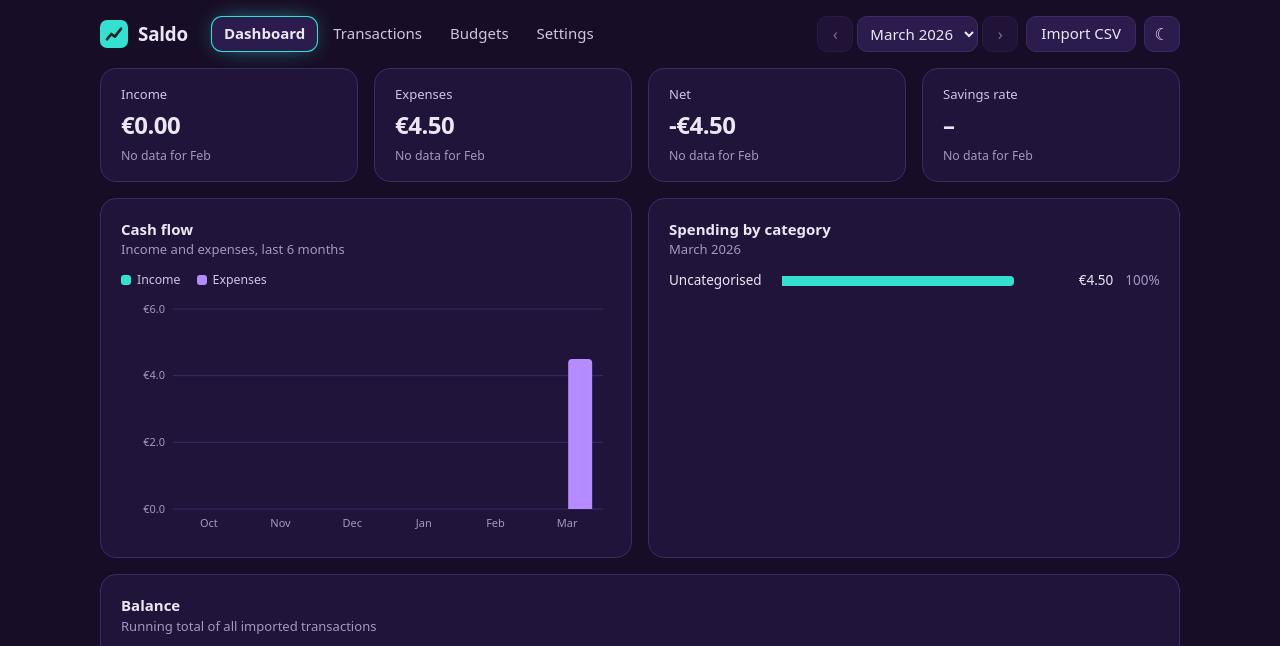
changes the display currency
Step 1. Click the button "Settings" → [565, 34], box x1=525 y1=17 x2=606 y2=51
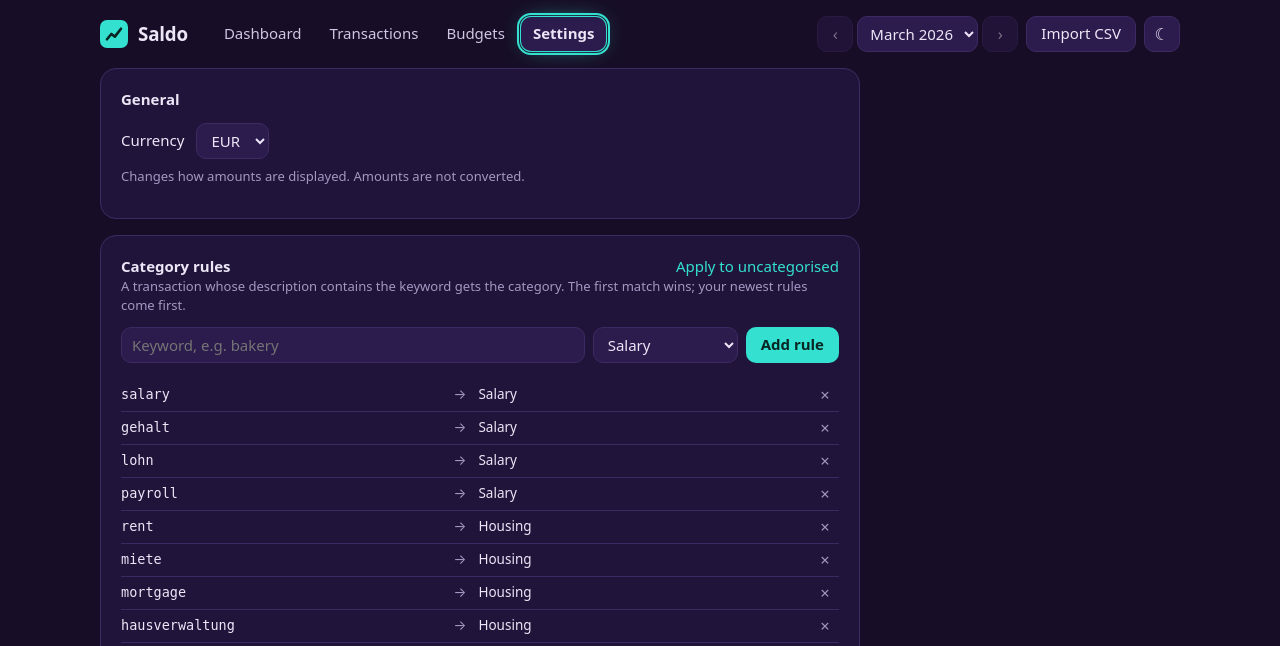
Step 2. Select "USD" in the dropdown labelled "Currency" → [233, 141], box x1=196 y1=123 x2=269 y2=159
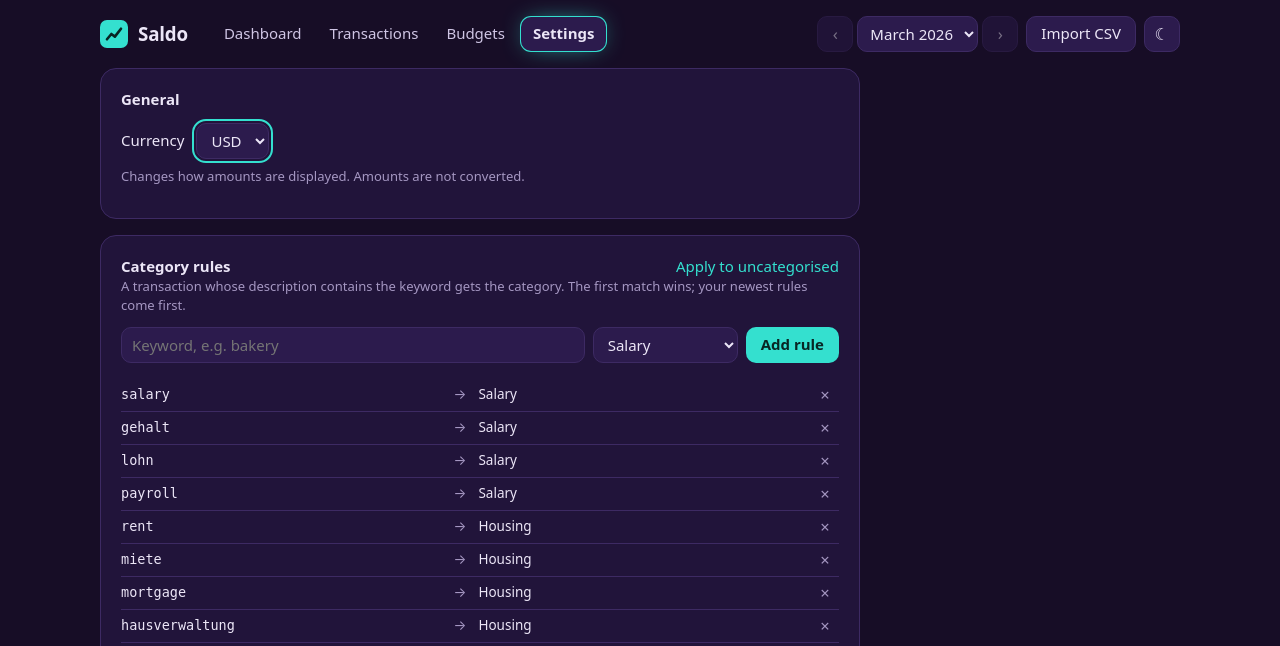
Step 3. Click the button "Dashboard" → [263, 34], box x1=212 y1=17 x2=314 y2=51
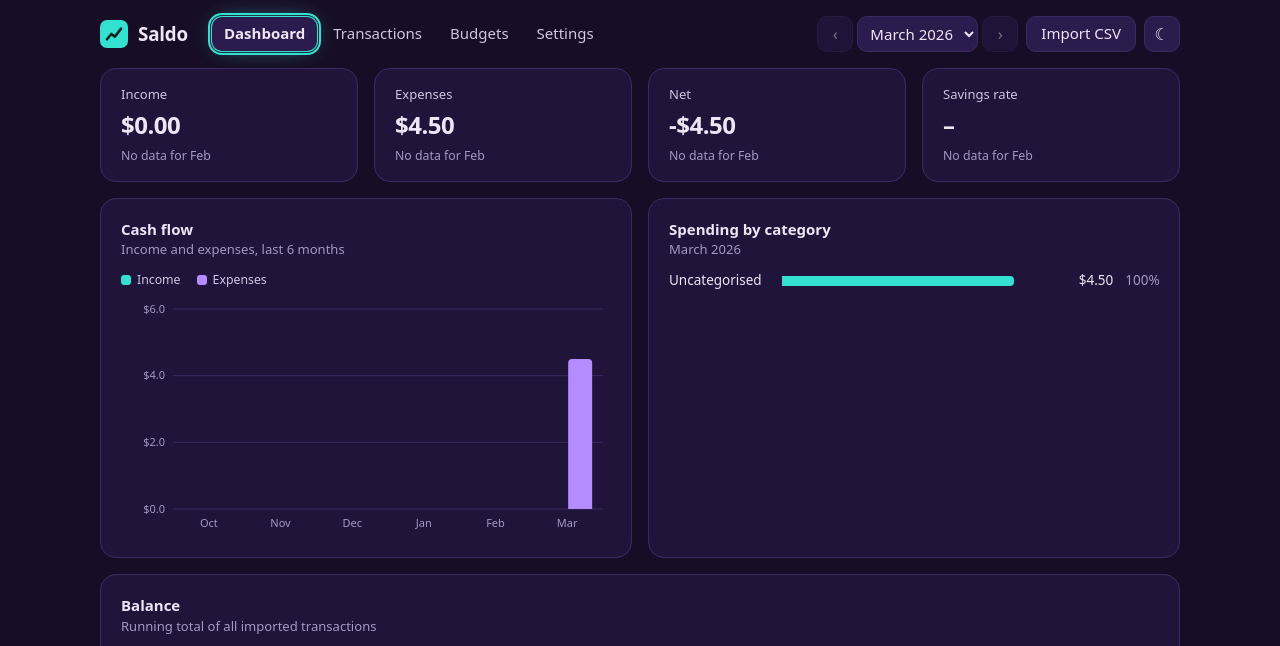
Check: the 1st text "$4.50" is shown, box x1=395 y1=108 x2=454 y2=141
